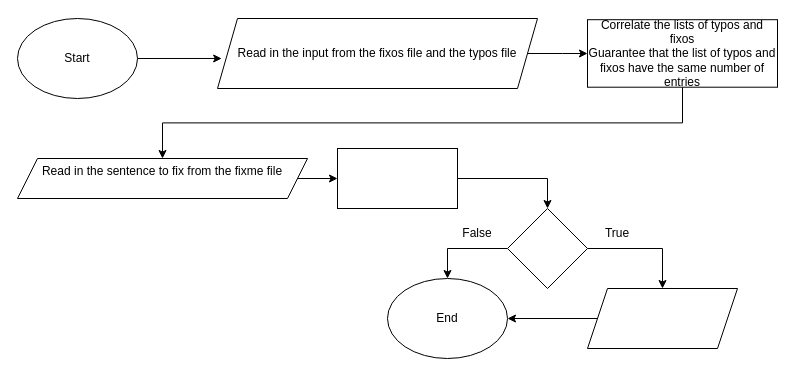
Image size: 795x376. Some labels were removed from this diagram. The shapes that lost their labels are listed below. From the top down, each one's centre as x and y in pixels, then its label:
point (397, 178): Iterate through the words in the sentence to fix and, for each,
point (547, 248): word needs to be fixed
point (662, 318): find and make the appropriate replacement
